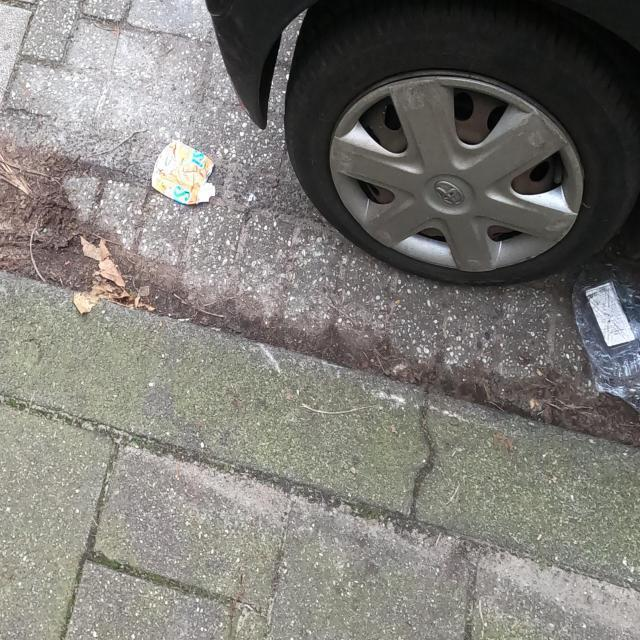Can-Metal: (150, 138, 216, 207)
Plastic: (571, 260, 640, 414)
